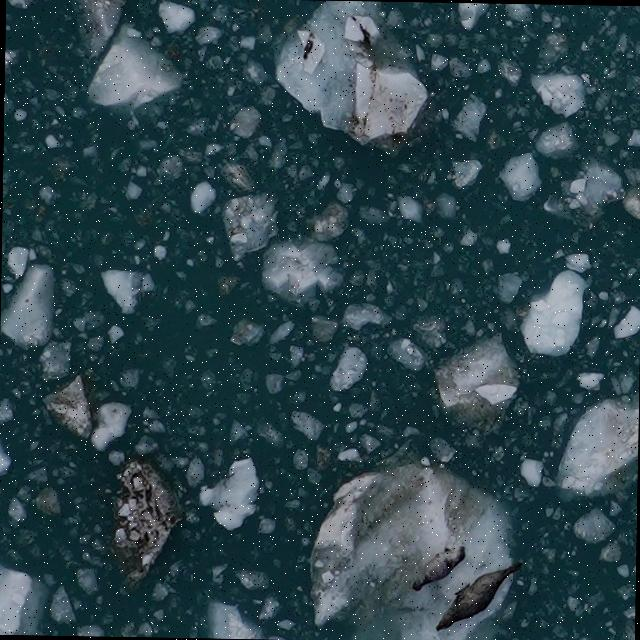seal: (429, 557, 525, 633), (409, 539, 469, 593), (303, 33, 314, 61)
